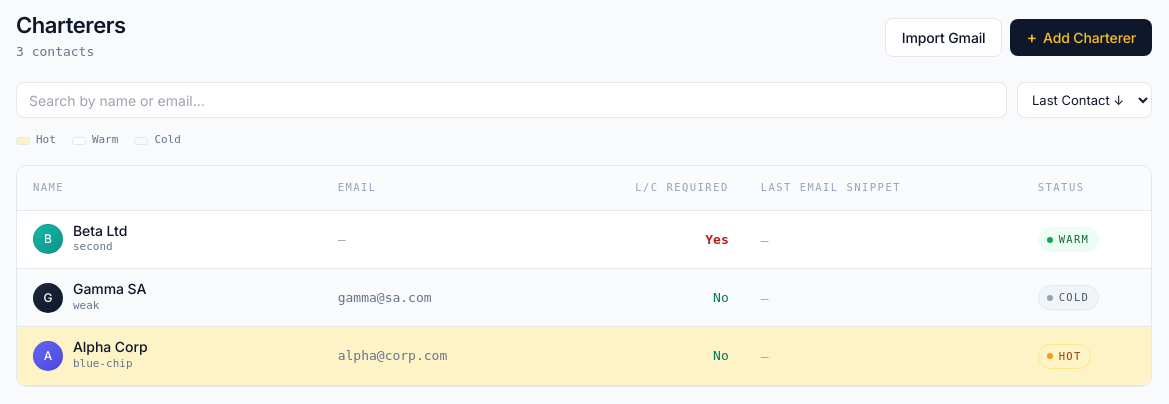
Test: Charterers FilterBar (#504) › typing name filters rows to matching company
Expected: the text "Alpha Corp" is shown, left=73, top=339, right=148, bottom=356
Type "alpha" into the search field named "search charterers" at (512, 100), box left=16, top=82, right=1007, bottom=118
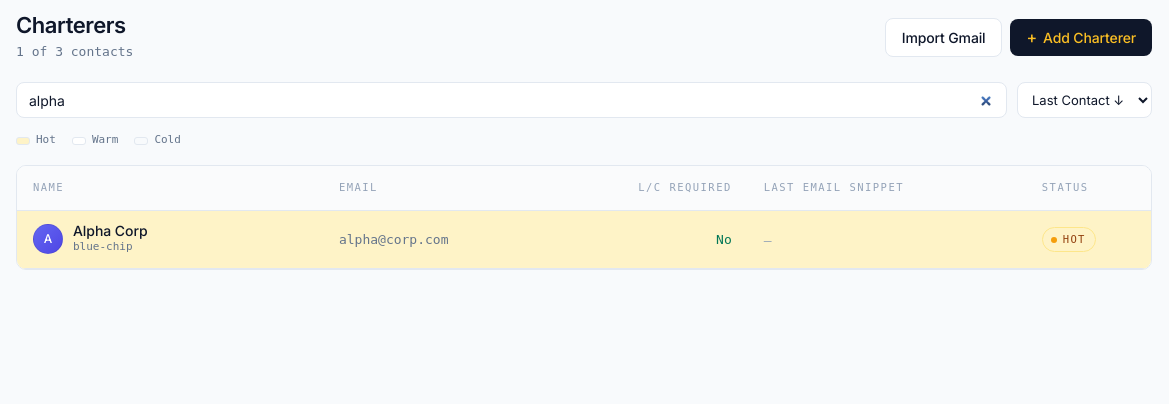
Expected: the text "Alpha Corp" is shown, left=73, top=223, right=148, bottom=239
Expected: the link "Beta Ltd" is gone
Expected: the link "Gamma SA" is gone
